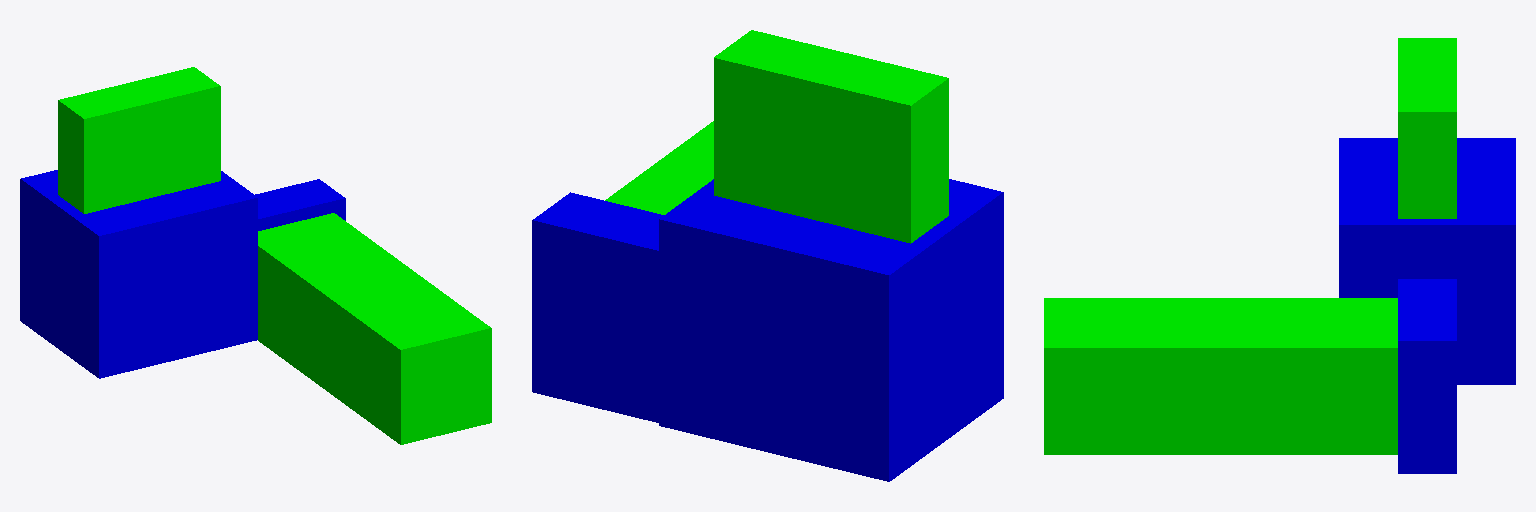
robot.urdf — robot:
<robot name = "robot">
    <link name="root">
        <inertial>
            <origin xyz="0.0 0.0 1.5" rpy="0 0 0"/>
            <mass value="1" />
            <inertia ixx="100" ixy="0" ixz="0" iyy="100" iyz="0" izz="100" />
        </inertial>
        <visual>
            <origin xyz="0.0 0.0 1.5" rpy="0 0 0"/>
            <geometry>
                <box size="0 0 0.0001" />
            </geometry>
            <material name="Green">
                <color rgba="0 1.0 0.0 1.0"/>
            </material>
        </visual>
        <collision>
            <origin xyz="0.0 0.0 1.5" rpy="0 0 0"/>
            <geometry>
                <box size="0 0 0.0001" />
            </geometry>
        </collision>
    </link>
    <joint name="root_000" type="revolute">
       <parent link="root"/>
       <child  link="000"/>
       <origin rpy="0 0 0" xyz="0.0 0.0 1.5" />
     <axis xyz="1 0 0"/>
       <limit effort="0.0" lower="-3.14159" upper="3.14159" velocity="0.0"/>
    </joint>
    <link name="000">
        <inertial>
            <origin xyz="0.0 0.1 0.0" rpy="0 0 0"/>
            <mass value="1" />
            <inertia ixx="100" ixy="0" ixz="0" iyy="100" iyz="0" izz="100" />
        </inertial>
        <visual>
            <origin xyz="0.0 0.1 0.0" rpy="0 0 0"/>
            <geometry>
                <box size="0.6 0.2 0.4" />
            </geometry>
            <material name="Green">
                <color rgba="0 1.0 0.0 1.0"/>
            </material>
        </visual>
        <collision>
            <origin xyz="0.0 0.1 0.0" rpy="0 0 0"/>
            <geometry>
                <box size="0.6 0.2 0.4" />
            </geometry>
        </collision>
    </link>
    <joint name="000_000-100" type="revolute">
       <parent link="000"/>
       <child  link="000-100"/>
       <origin rpy="0 0 0" xyz="0.0 0.1 -0.2" />
     <axis xyz="0 0 1"/>
       <limit effort="0.0" lower="-3.14159" upper="3.14159" velocity="0.0"/>
    </joint>
    <link name="000-100">
        <inertial>
            <origin xyz="0.0 0.0 -0.15" rpy="0 0 0"/>
            <mass value="1" />
            <inertia ixx="100" ixy="0" ixz="0" iyy="100" iyz="0" izz="100" />
        </inertial>
        <visual>
            <origin xyz="0.0 0.0 -0.15" rpy="0 0 0"/>
            <geometry>
                <box size="0.7 0.6 0.3" />
            </geometry>
            <material name="Blue">
                <color rgba="0 0.0 1.0 1.0"/>
            </material>
        </visual>
        <collision>
            <origin xyz="0.0 0.0 -0.15" rpy="0 0 0"/>
            <geometry>
                <box size="0.7 0.6 0.3" />
            </geometry>
        </collision>
    </link>
    <joint name="000-100_000-110" type="revolute">
       <parent link="000-100"/>
       <child  link="000-110"/>
       <origin rpy="0 0 0" xyz="0.0 0.0 -0.3" />
     <axis xyz="0 0 1"/>
       <limit effort="0.0" lower="-3.14159" upper="3.14159" velocity="0.0"/>
    </joint>
    <link name="000-110">
        <inertial>
            <origin xyz="0.0 0.0 -0.15" rpy="0 0 0"/>
            <mass value="1" />
            <inertia ixx="100" ixy="0" ixz="0" iyy="100" iyz="0" izz="100" />
        </inertial>
        <visual>
            <origin xyz="0.0 0.0 -0.15" rpy="0 0 0"/>
            <geometry>
                <box size="0.7 0.6 0.3" />
            </geometry>
            <material name="Blue">
                <color rgba="0 0.0 1.0 1.0"/>
            </material>
        </visual>
        <collision>
            <origin xyz="0.0 0.0 -0.15" rpy="0 0 0"/>
            <geometry>
                <box size="0.7 0.6 0.3" />
            </geometry>
        </collision>
    </link>
    <joint name="000-110_000-110-200" type="revolute">
       <parent link="000-110"/>
       <child  link="000-110-200"/>
       <origin rpy="0 0 0" xyz="0.35 0.0 -0.15" />
     <axis xyz="1 0 0"/>
       <limit effort="0.0" lower="-3.14159" upper="3.14159" velocity="0.0"/>
    </joint>
    <link name="000-110-200">
        <inertial>
            <origin xyz="0.25 0.0 -0.0" rpy="0 0 0"/>
            <mass value="1" />
            <inertia ixx="100" ixy="0" ixz="0" iyy="100" iyz="0" izz="100" />
        </inertial>
        <visual>
            <origin xyz="0.25 0.0 -0.0" rpy="0 0 0"/>
            <geometry>
                <box size="0.5 0.2 0.5" />
            </geometry>
            <material name="Blue">
                <color rgba="0 0.0 1.0 1.0"/>
            </material>
        </visual>
        <collision>
            <origin xyz="0.25 0.0 -0.0" rpy="0 0 0"/>
            <geometry>
                <box size="0.5 0.2 0.5" />
            </geometry>
        </collision>
    </link>
    <joint name="000-110-200_000-110-200-301" type="revolute">
       <parent link="000-110-200"/>
       <child  link="000-110-200-301"/>
       <origin rpy="0 0 0" xyz="0.25 -0.1 -0.0" />
     <axis xyz="0 1 0"/>
       <limit effort="0.0" lower="-3.14159" upper="3.14159" velocity="0.0"/>
    </joint>
    <link name="000-110-200-301">
        <inertial>
            <origin xyz="0.0 -0.2 -0.0" rpy="0 0 0"/>
            <mass value="1" />
            <inertia ixx="100" ixy="0" ixz="0" iyy="100" iyz="0" izz="100" />
        </inertial>
        <visual>
            <origin xyz="0.0 -0.2 -0.0" rpy="0 0 0"/>
            <geometry>
                <box size="0.4 0.4 0.4" />
            </geometry>
            <material name="Green">
                <color rgba="0 1.0 0.0 1.0"/>
            </material>
        </visual>
        <collision>
            <origin xyz="0.0 -0.2 -0.0" rpy="0 0 0"/>
            <geometry>
                <box size="0.4 0.4 0.4" />
            </geometry>
        </collision>
    </link>
    <joint name="000-110-200-301_000-110-200-311" type="revolute">
       <parent link="000-110-200-301"/>
       <child  link="000-110-200-311"/>
       <origin rpy="0 0 0" xyz="0.0 -0.4 -0.0" />
     <axis xyz="0 1 0"/>
       <limit effort="0.0" lower="-3.14159" upper="3.14159" velocity="0.0"/>
    </joint>
    <link name="000-110-200-311">
        <inertial>
            <origin xyz="0.0 -0.2 -0.0" rpy="0 0 0"/>
            <mass value="1" />
            <inertia ixx="100" ixy="0" ixz="0" iyy="100" iyz="0" izz="100" />
        </inertial>
        <visual>
            <origin xyz="0.0 -0.2 -0.0" rpy="0 0 0"/>
            <geometry>
                <box size="0.4 0.4 0.4" />
            </geometry>
            <material name="Green">
                <color rgba="0 1.0 0.0 1.0"/>
            </material>
        </visual>
        <collision>
            <origin xyz="0.0 -0.2 -0.0" rpy="0 0 0"/>
            <geometry>
                <box size="0.4 0.4 0.4" />
            </geometry>
        </collision>
    </link>
    <joint name="000-110-200-311_000-110-200-321" type="revolute">
       <parent link="000-110-200-311"/>
       <child  link="000-110-200-321"/>
       <origin rpy="0 0 0" xyz="0.0 -0.4 -0.0" />
     <axis xyz="0 1 0"/>
       <limit effort="0.0" lower="-3.14159" upper="3.14159" velocity="0.0"/>
    </joint>
    <link name="000-110-200-321">
        <inertial>
            <origin xyz="0.0 -0.2 -0.0" rpy="0 0 0"/>
            <mass value="1" />
            <inertia ixx="100" ixy="0" ixz="0" iyy="100" iyz="0" izz="100" />
        </inertial>
        <visual>
            <origin xyz="0.0 -0.2 -0.0" rpy="0 0 0"/>
            <geometry>
                <box size="0.4 0.4 0.4" />
            </geometry>
            <material name="Green">
                <color rgba="0 1.0 0.0 1.0"/>
            </material>
        </visual>
        <collision>
            <origin xyz="0.0 -0.2 -0.0" rpy="0 0 0"/>
            <geometry>
                <box size="0.4 0.4 0.4" />
            </geometry>
        </collision>
    </link>
</robot>

--- Render facts (derived) ---
The picture shows the robot from 3 angles, left to right: view 1: azimuth 30°, elevation 25°; view 2: azimuth 150°, elevation 25°; view 3: azimuth 270°, elevation 25°; orthographic projection.
Robot: robot — 8 links, 7 joints (7 revolute); root link root; default pose: all joints at 0.
Links seen in each view (by area): view 1: [phone redacted] (×4), 000-100, 000, 000-110; view 2: 000-100, 000, 000-110, [phone redacted] (×3); view 3: [phone redacted] (×4), 000-100, 000, 000-110.
Link boxes in pixels (left/top/right/bottom): [phone redacted] (×4): left=255, top=179, right=491, bottom=444; 000-100: left=20, top=170, right=257, bottom=307; 000: left=58, top=67, right=220, bottom=213; 000-110: left=20, top=250, right=257, bottom=378; 000-100: left=659, top=179, right=1003, bottom=378; 000: left=714, top=30, right=948, bottom=243; 000-110: left=659, top=295, right=1003, bottom=481; [phone redacted] (×3): left=532, top=121, right=713, bottom=422; [phone redacted] (×4): left=1044, top=279, right=1456, bottom=473; 000-100: left=1339, top=138, right=1515, bottom=304; 000: left=1398, top=38, right=1456, bottom=218; 000-110: left=1457, top=305, right=1515, bottom=384.
Bounding box of the posed robot: 1.2 × 1.6 × 1.1 m (x, y, z).
Geometry: primitives only (box / cylinder / sphere), no mesh files.
